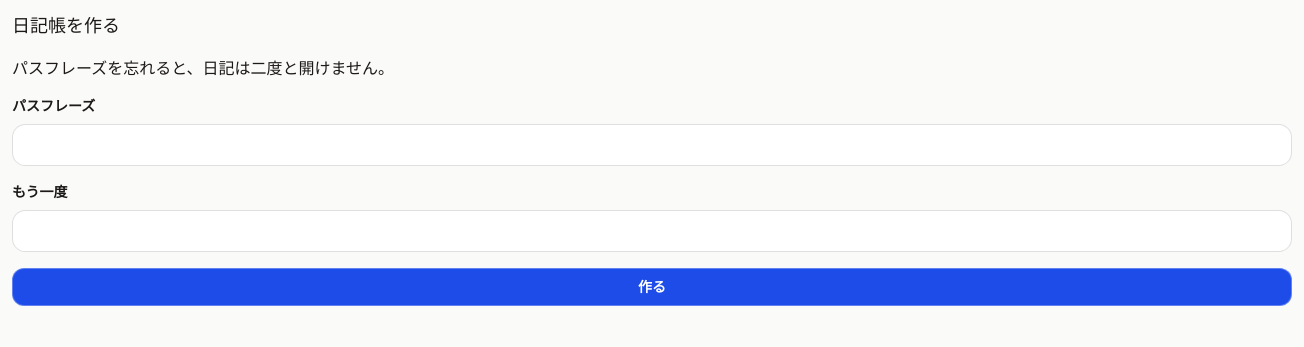
Test case: two different passphrases do not create and say why
Type "correct horse" into the password field labelled "パスフレーズ" at (652, 145), box [12,124,1292,166]
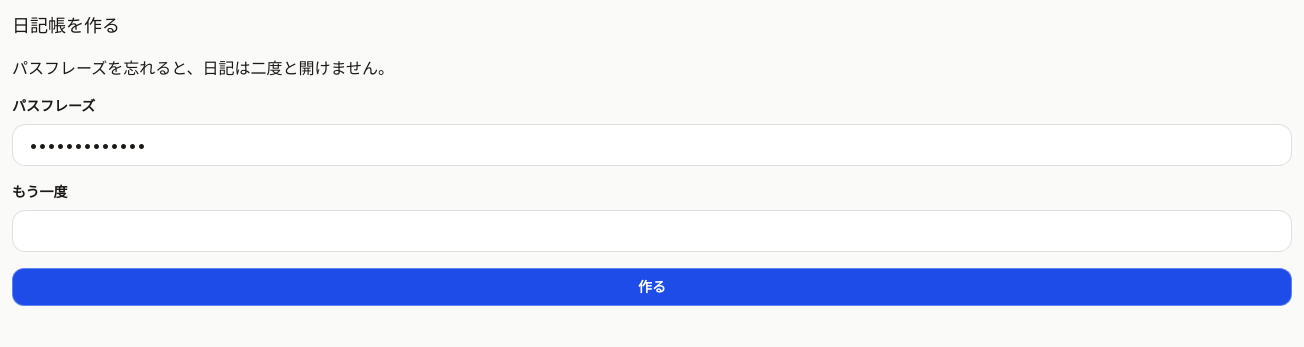
Type "correct hose" into the password field labelled "もう一度" at (652, 231), box [12,210,1292,252]
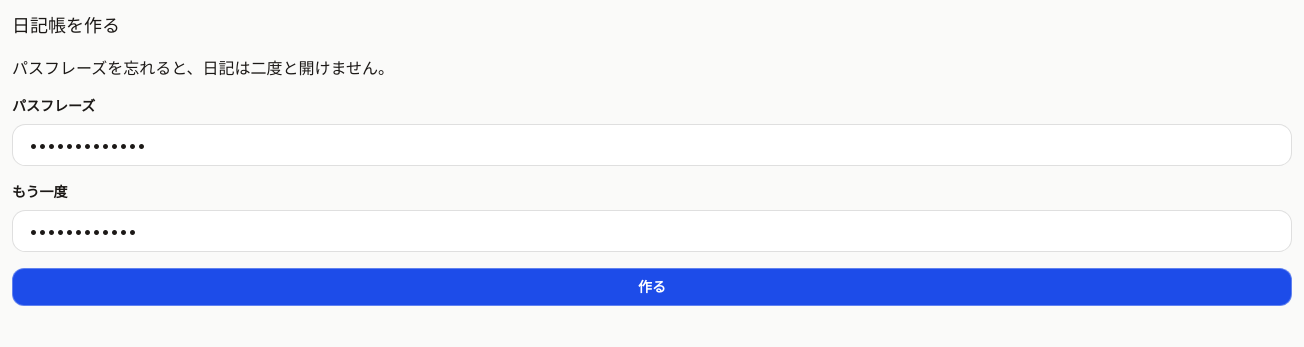
Click the button "作る" at (652, 287), box [12,268,1292,306]
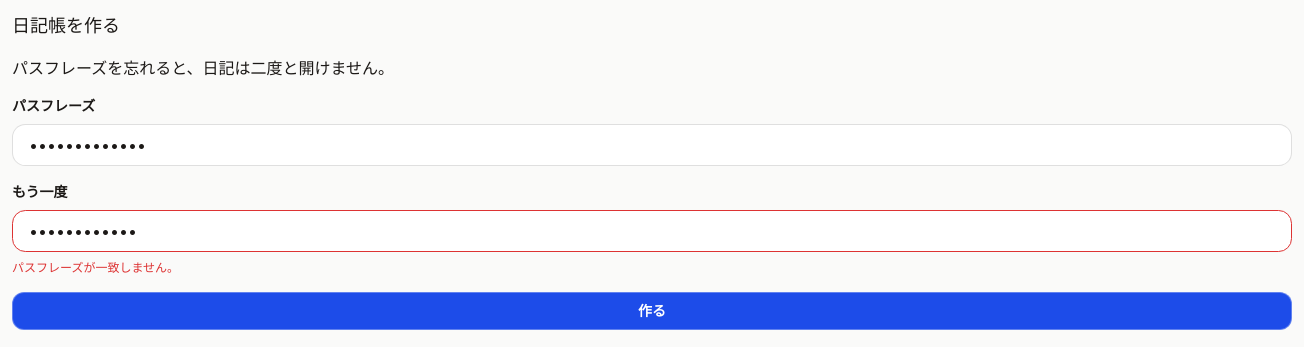
Result: the message reads "パスフレーズが一致しません。" at [12,260,179,275]
